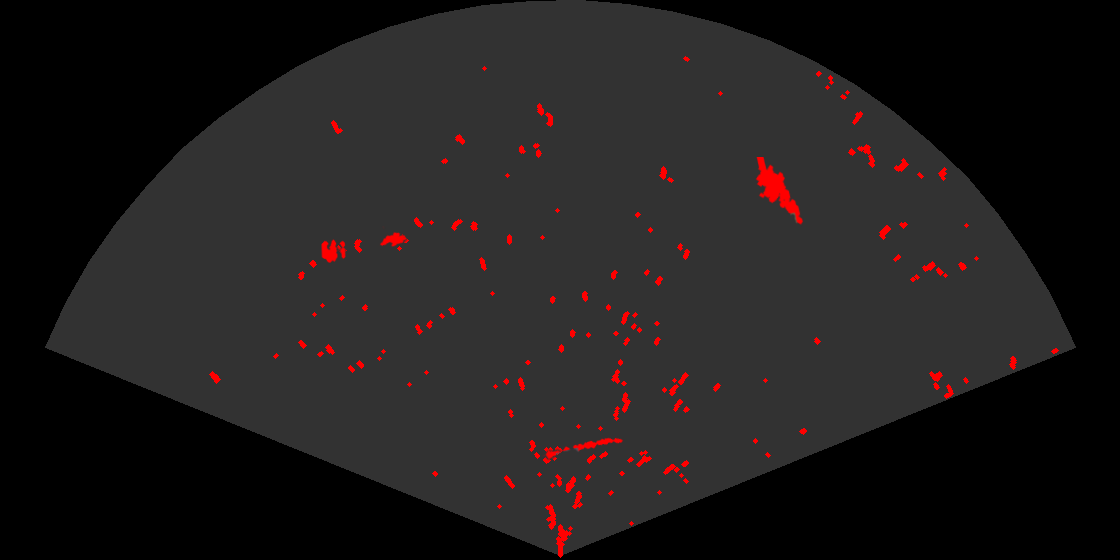AUV: (378, 226, 408, 249)
ball: (320, 238, 347, 264)
chain: (541, 436, 625, 461)
frogman: (754, 157, 805, 227)
